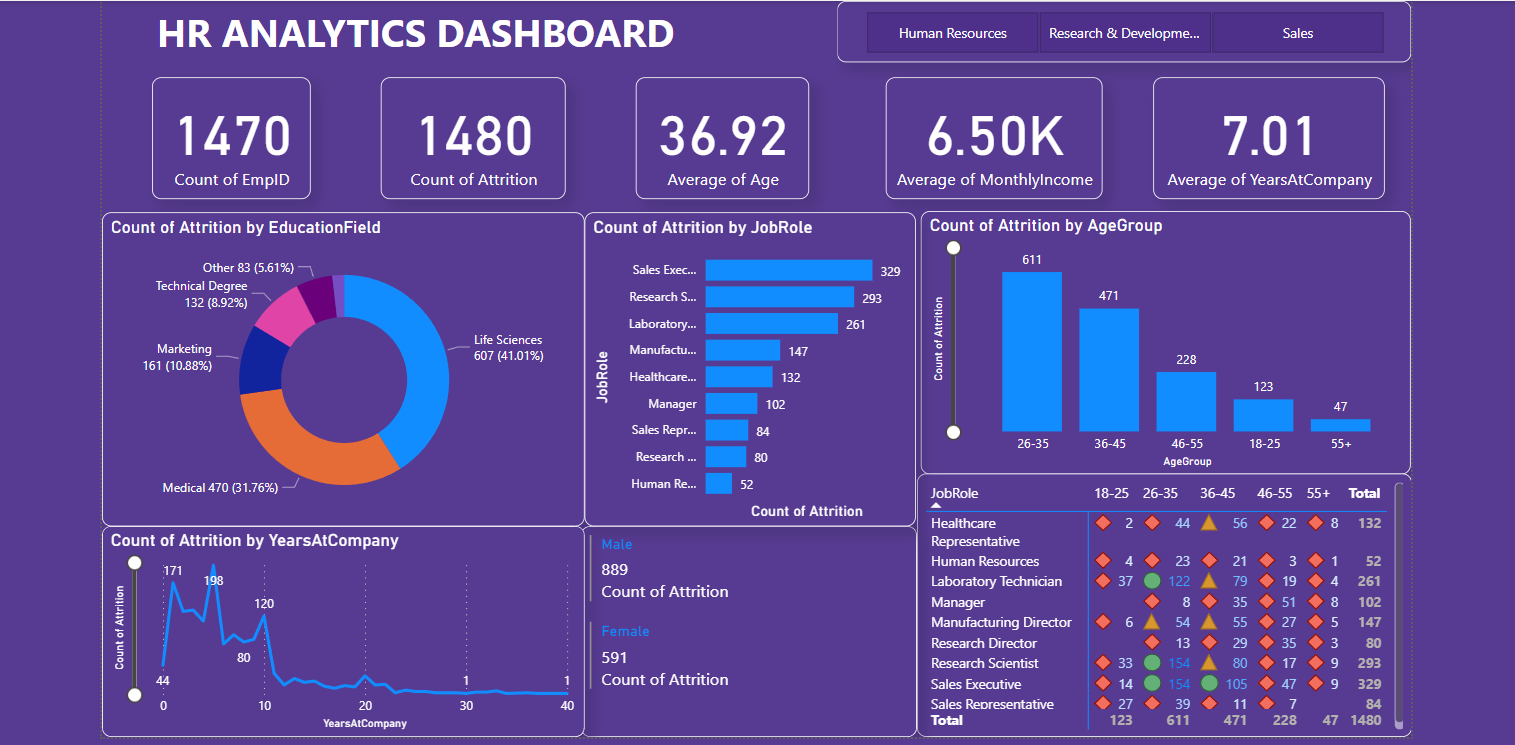

The page's visual inventory and layout, read from the dashboard file:
{"tool":"powerbi","page":{"name":"Page 1","canvas":[1280,720],"ordinal":0},"visuals":[{"type":"card","fields":{"Values":["Count(HR_Analytics.EmpID)"]},"box":[48.4,74,155.1,119.5],"z":0},{"type":"card","fields":{"Values":["CountNonNull(HR_Analytics.Attrition)"]},"box":[273.1,74,180.7,119.5],"z":1000},{"type":"card","fields":{"Values":["Avg(HR_Analytics.Age)"]},"box":[522.1,74,169.3,119.5],"z":2000},{"type":"card","fields":{"Values":["Avg(HR_Analytics.MonthlyIncome)"]},"box":[766.8,74,212,119.5],"z":3000},{"type":"card","fields":{"Values":["Avg(HR_Analytics.YearsAtCompany)"]},"box":[1028.5,74,226.2,119.5],"z":4000},{"type":"slicer","fields":{"Values":["HR_Analytics.Department"]},"box":[718.4,0,561.9,59.7],"z":5000},{"type":"donutChart","fields":{"Category":["HR_Analytics.EducationField"],"Y":["CountNonNull(HR_Analytics.Attrition)"]},"box":[0,206.3,472.3,307.3],"z":6000},{"type":"columnChart","fields":{"Y":["CountNonNull(HR_Analytics.Attrition)"],"Category":["HR_Analytics.AgeGroup"]},"box":[800.9,204.8,479.4,257.5],"z":6001},{"type":"pivotTable","fields":{"Rows":["HR_Analytics.JobRole"],"Values":["Sum(HR_Analytics.EmployeeCount)"],"Columns":["HR_Analytics.AgeGroup"]},"box":[796.6,462.3,483.7,257.5],"z":6002},{"type":"multiRowCard","fields":{"Values":["HR_Analytics.Attrition","HR_Analytics.Gender"]},"box":[468,513.5,328.6,206.3],"z":6003},{"type":"lineChart","fields":{"Y":["CountNonNull(HR_Analytics.Attrition)"],"Category":["HR_Analytics.YearsAtCompany"]},"box":[0,513.5,472.3,206.3],"z":6004},{"type":"barChart","fields":{"Y":["CountNonNull(HR_Analytics.Attrition)"],"Category":["HR_Analytics.JobRole"]},"box":[472.3,206.3,324.3,307.3],"z":6005},{"type":"textbox","box":[48.4,0,670,59.7],"z":6006}]}

Visuals, with their boxes in screenshot pixels (x1, y1, x2, y2):
card - Count(HR_Analytics.EmpID): {"x1": 152, "y1": 76, "x2": 310, "y2": 198}
card - CountNonNull(HR_Analytics.Attrition): {"x1": 382, "y1": 76, "x2": 566, "y2": 198}
card - Avg(HR_Analytics.Age): {"x1": 636, "y1": 76, "x2": 809, "y2": 198}
card - Avg(HR_Analytics.MonthlyIncome): {"x1": 886, "y1": 76, "x2": 1102, "y2": 198}
card - Avg(HR_Analytics.YearsAtCompany): {"x1": 1153, "y1": 76, "x2": 1384, "y2": 198}
slicer - HR_Analytics.Department: {"x1": 836, "y1": 0, "x2": 1410, "y2": 61}
donutChart - HR_Analytics.EducationField x CountNonNull(HR_Analytics.Attrition): {"x1": 103, "y1": 211, "x2": 585, "y2": 525}
columnChart - CountNonNull(HR_Analytics.Attrition) x HR_Analytics.AgeGroup: {"x1": 921, "y1": 209, "x2": 1410, "y2": 472}
pivotTable - HR_Analytics.JobRole x Sum(HR_Analytics.EmployeeCount): {"x1": 916, "y1": 472, "x2": 1410, "y2": 735}
multiRowCard - HR_Analytics.Attrition x HR_Analytics.Gender: {"x1": 581, "y1": 524, "x2": 916, "y2": 735}
lineChart - CountNonNull(HR_Analytics.Attrition) x HR_Analytics.YearsAtCompany: {"x1": 103, "y1": 524, "x2": 585, "y2": 735}
barChart - CountNonNull(HR_Analytics.Attrition) x HR_Analytics.JobRole: {"x1": 585, "y1": 211, "x2": 916, "y2": 525}
textbox: {"x1": 152, "y1": 0, "x2": 836, "y2": 61}
